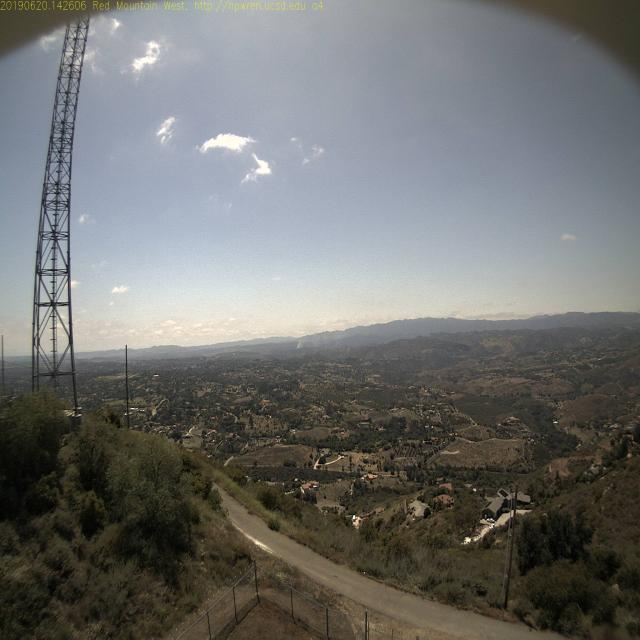smoke: (291, 335, 306, 354)
